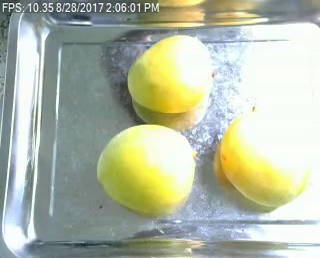Mango: (91, 119, 198, 213), (216, 113, 313, 207), (118, 25, 215, 111)
